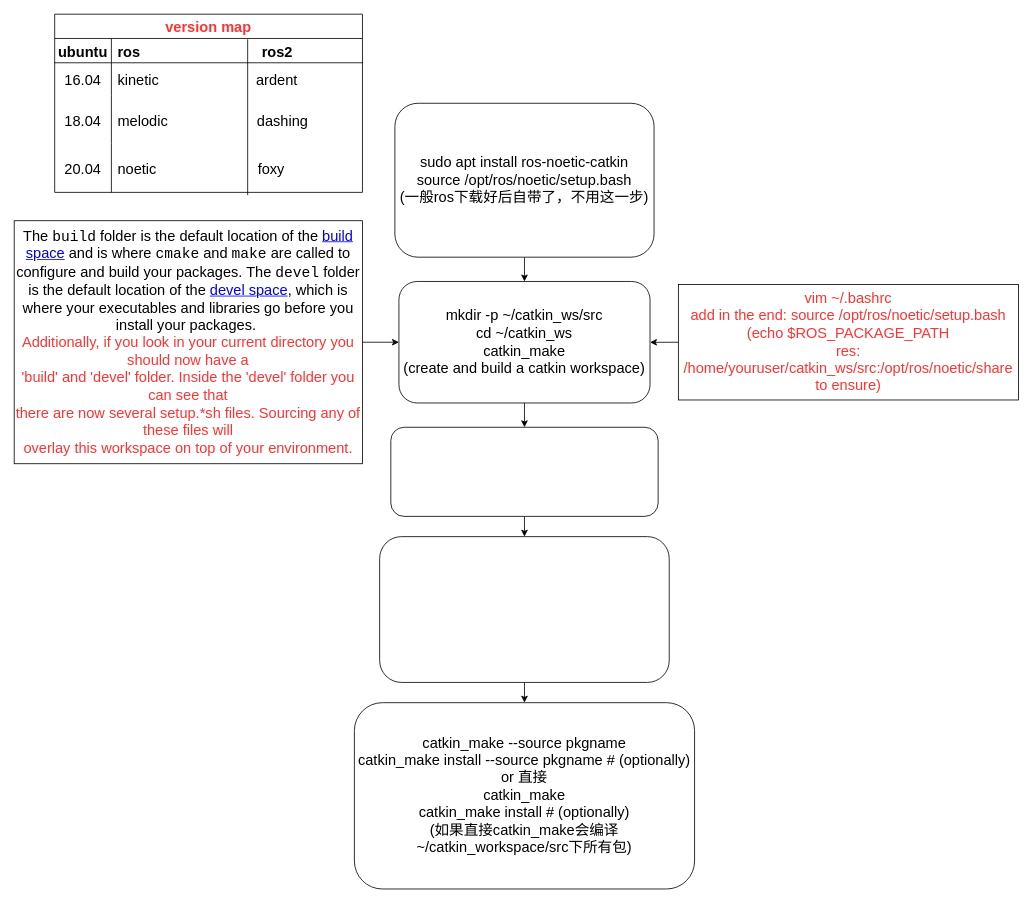
Some shapes in this 1033 by 903 pixel diagram are drawn without their labels. Here are the shapes that lost their labels. From the top down, the centre of each, then its label:
the point at 524,471: cd ~/catkin_ws/src (catkin_ws is just a catkin workspace)
the point at 524,609: catkin_create_pkg your_package_name depend1 depend2 ... (construct pkg)
